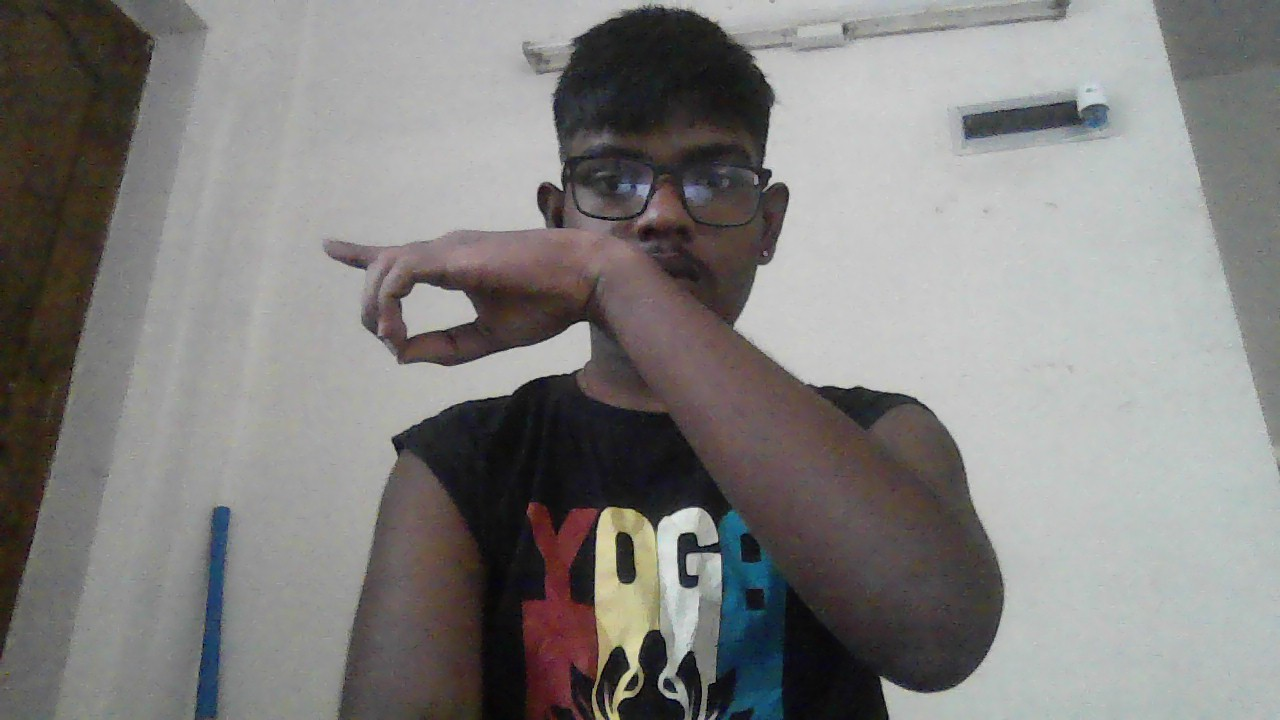P: (319, 235, 586, 363)
